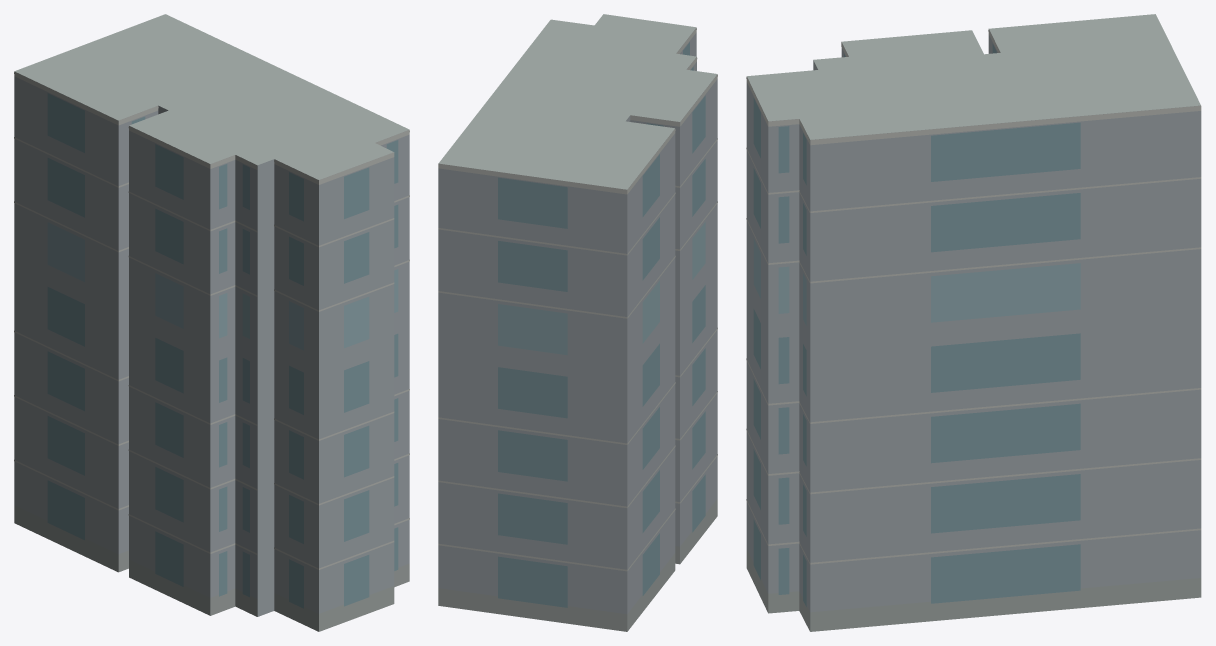
Rendered from survey-upis-32601520.glb.
3 renders of one model, left to right at view 1: azimuth 30°, elevation 25°; view 2: azimuth 150°, elevation 25°; view 3: azimuth 270°, elevation 25°, orthographic. The views are drawn at different scales.
Visible parts, largest first — view 1: survey-upis-32601520.tmp; view 2: survey-upis-32601520.tmp; view 3: survey-upis-32601520.tmp.
Part boxes in pixels (<box>): survey-upis-32601520.tmp: <box>14,14,409,631</box>; survey-upis-32601520.tmp: <box>438,14,717,631</box>; survey-upis-32601520.tmp: <box>746,14,1201,631</box>.
Size of the model in its own units: 12.29 by 22.35 by 18.73.
